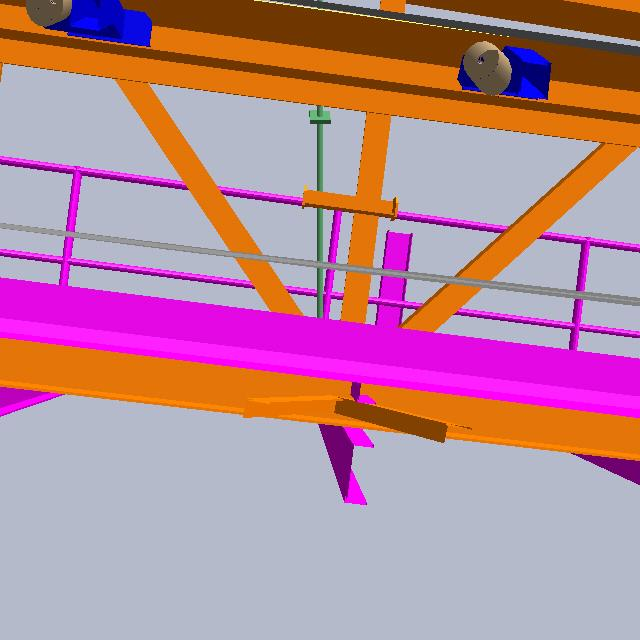Poste: (312, 99, 328, 330)
Soporte: (367, 227, 418, 340)
